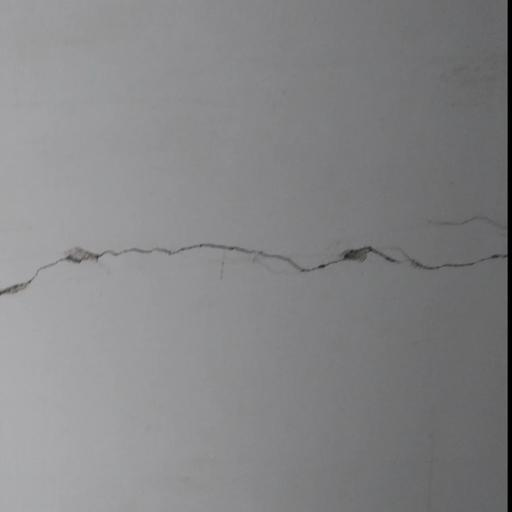major_crack: (0, 209, 507, 296)
